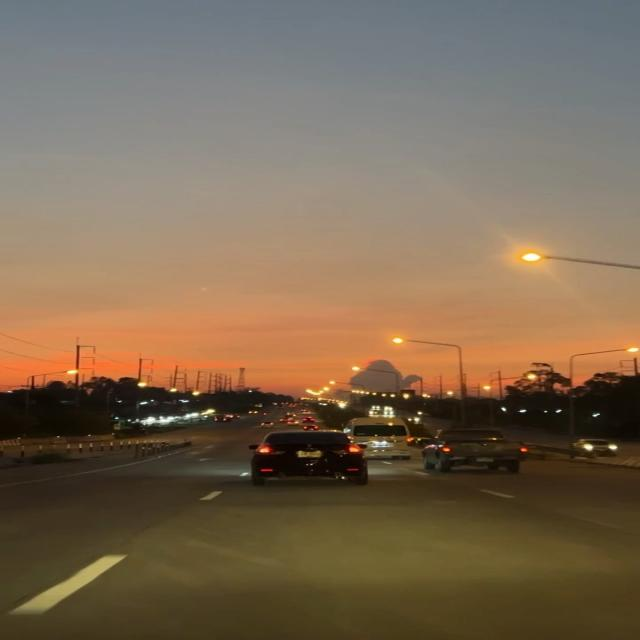Poth-hole: (57, 480, 622, 623)
